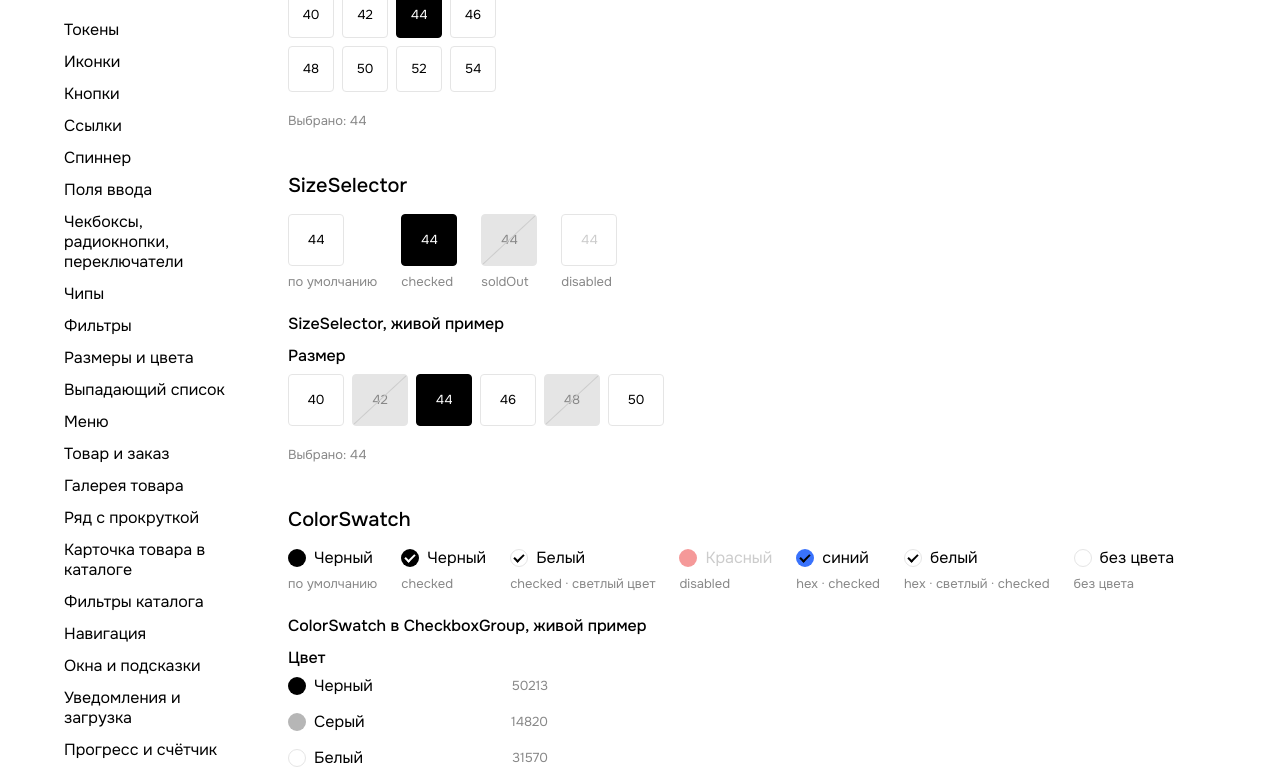
Test: SizeSelector demo › starts with 44, moves past sold out sizes and shows the pick
This screenshot has width=1280, height=772.
(page scrolled)
Expected: the 5th radio button labelled "44" is checked, [416,374,472,426]
Expected: the 2nd text "Выбрано: 44" is shown, [288,447,366,463]
Click the radio button labelled "42": x=380, y=400 [352,374,408,426]
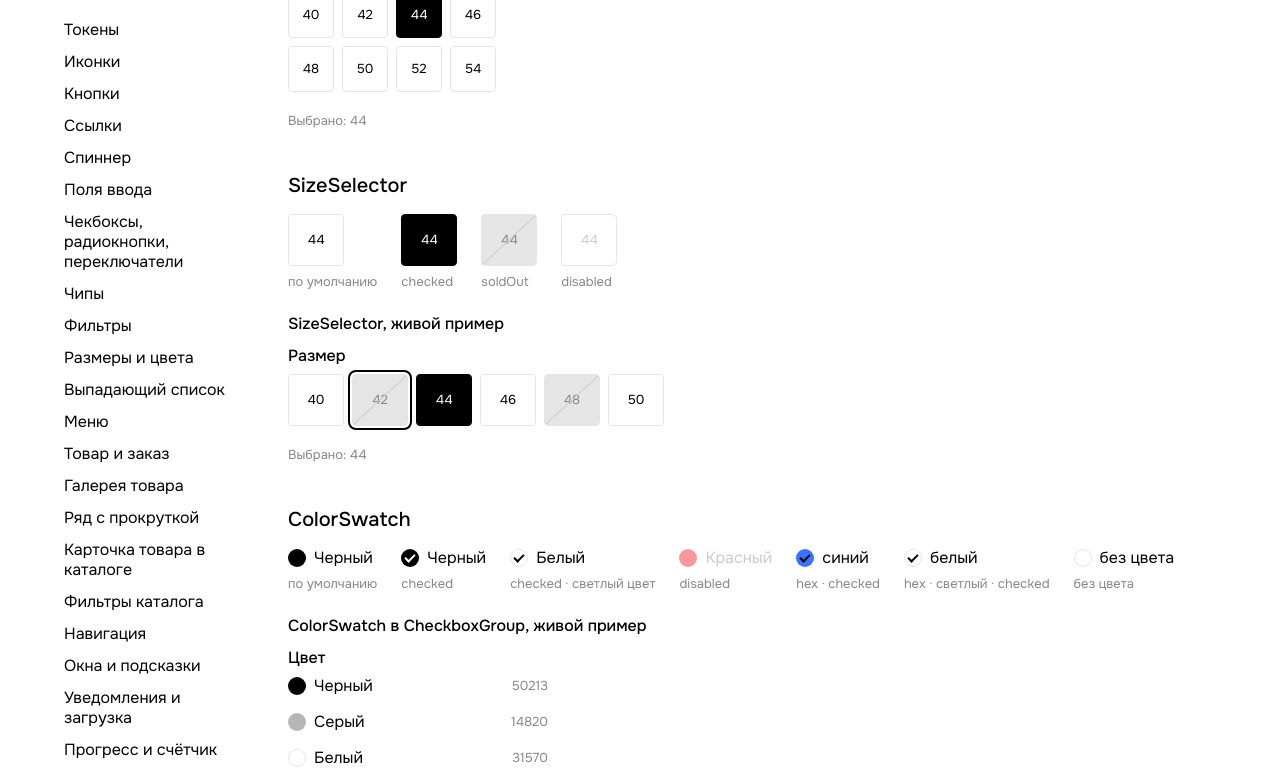
Expected: the 5th radio button labelled "44" is checked, [416,374,472,426]
Expected: the 2nd text "Выбрано: 44" is shown, [288,447,366,463]
Click the radio button labelled "40": x=316, y=400 [288,374,344,426]
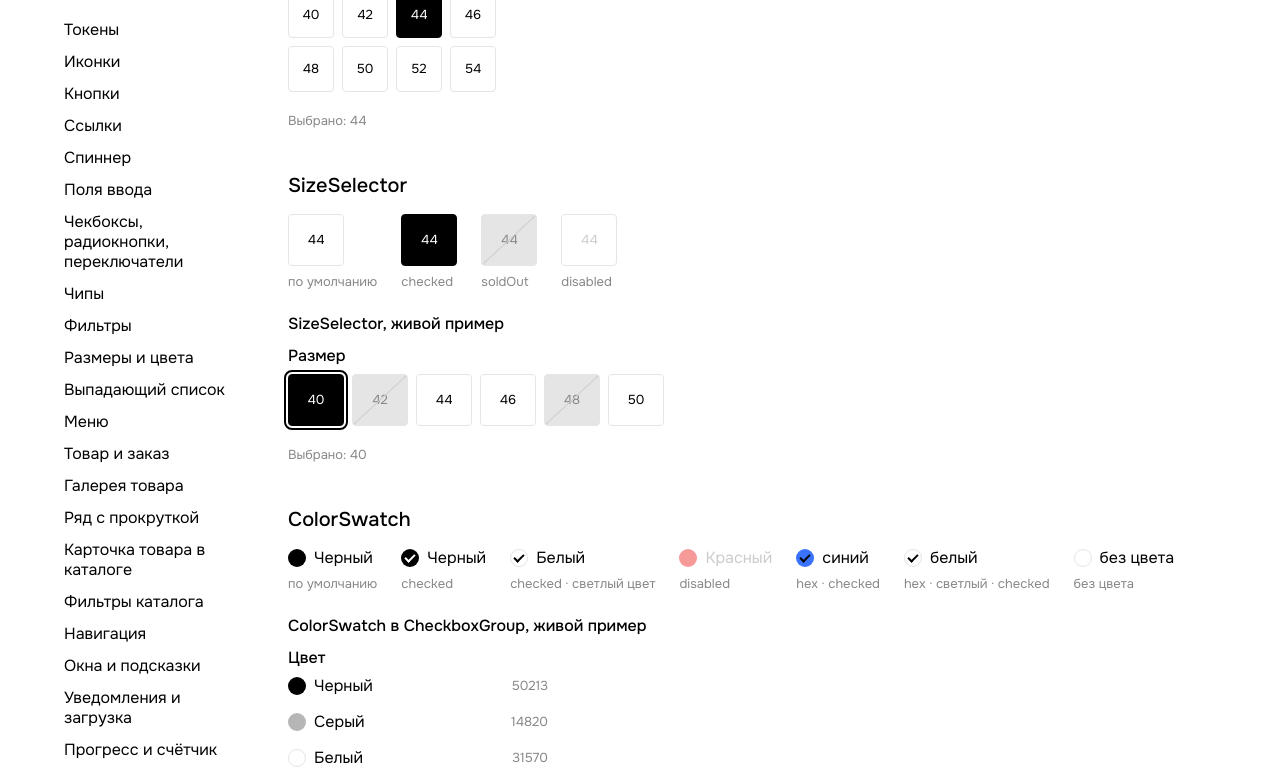
Expected: the text "Выбрано: 40" is shown, [288,447,367,463]
Press Arrowright
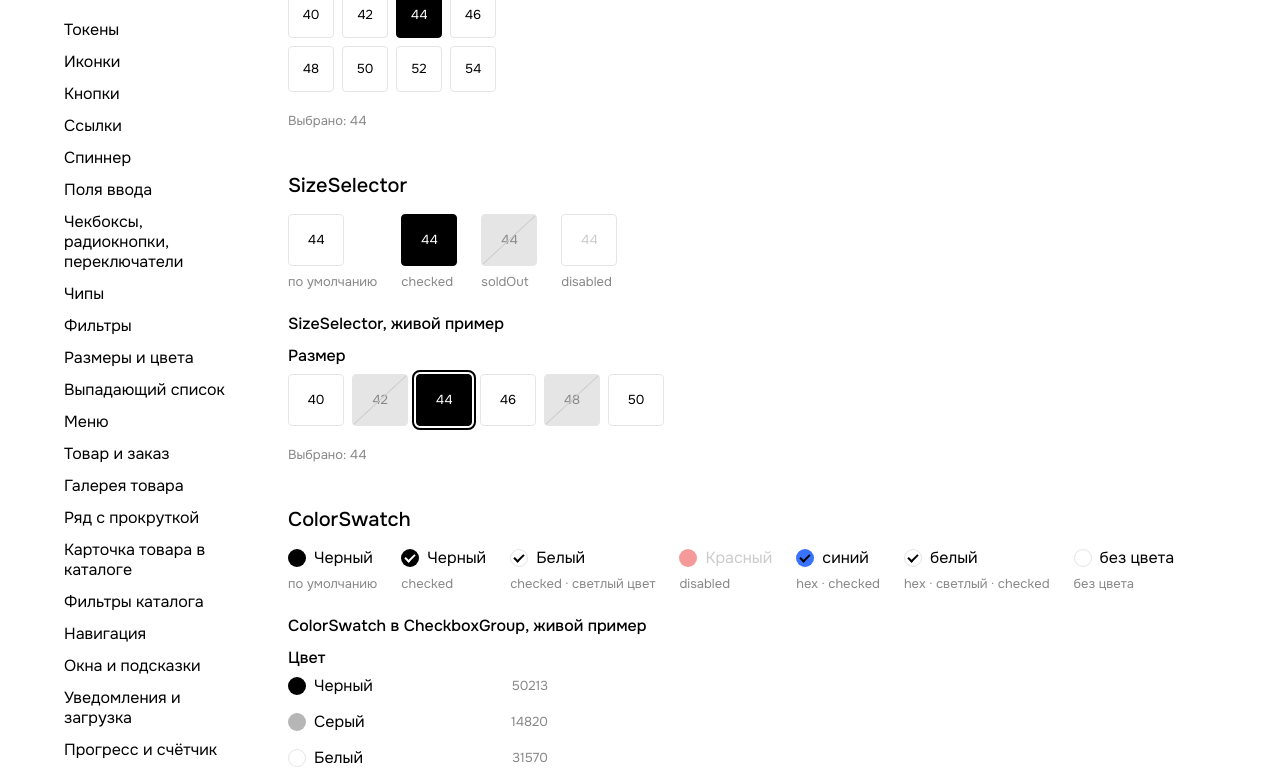
Expected: the 2nd text "Выбрано: 44" is shown, [288,447,366,463]
